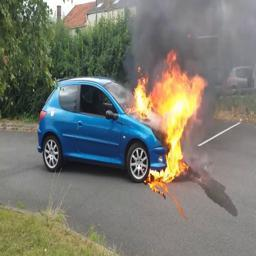fire: (133, 51, 206, 184)
